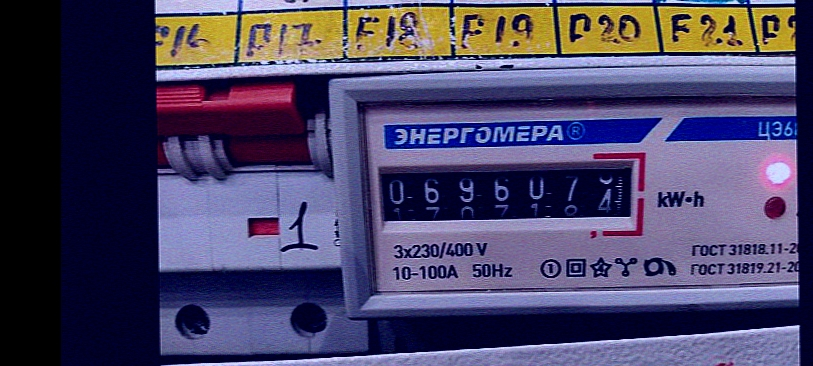0: (385, 177, 406, 207), (526, 172, 546, 202)
4: (593, 187, 613, 215)
6: (419, 176, 442, 206), (491, 175, 511, 203)
7: (561, 173, 579, 203)
9: (456, 176, 475, 205)
screen: (361, 147, 647, 241)
